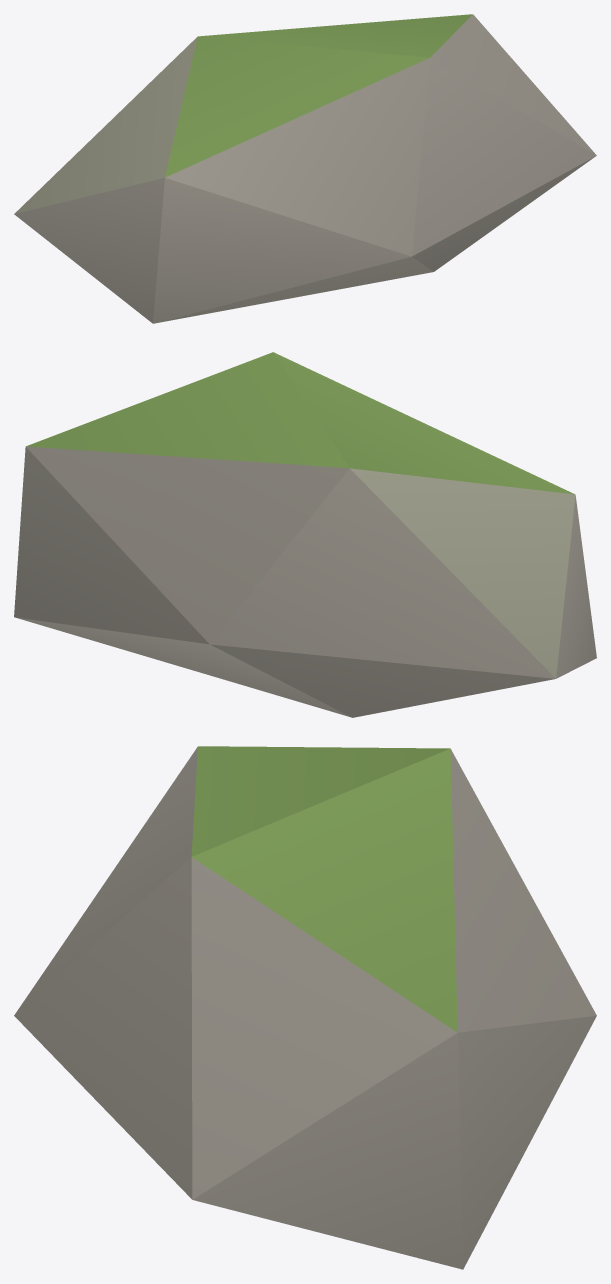
File: rock_1.glb
3 views of the same model, one above another, from view 1: azimuth 30°, elevation 25°; view 2: azimuth 150°, elevation 25°; view 3: azimuth 270°, elevation 25° (orthographic). The views are drawn at different scales.
Parts seen in each view (by area): view 1: rock_1; view 2: rock_1; view 3: rock_1.
Boxes of the visible parts, x1,y1,x2,y2 form: rock_1: (14,14,596,323); rock_1: (14,352,596,717); rock_1: (14,746,596,1269).
Bounding box in the file's own units: 1.7 × 0.7034 × 1.11.
